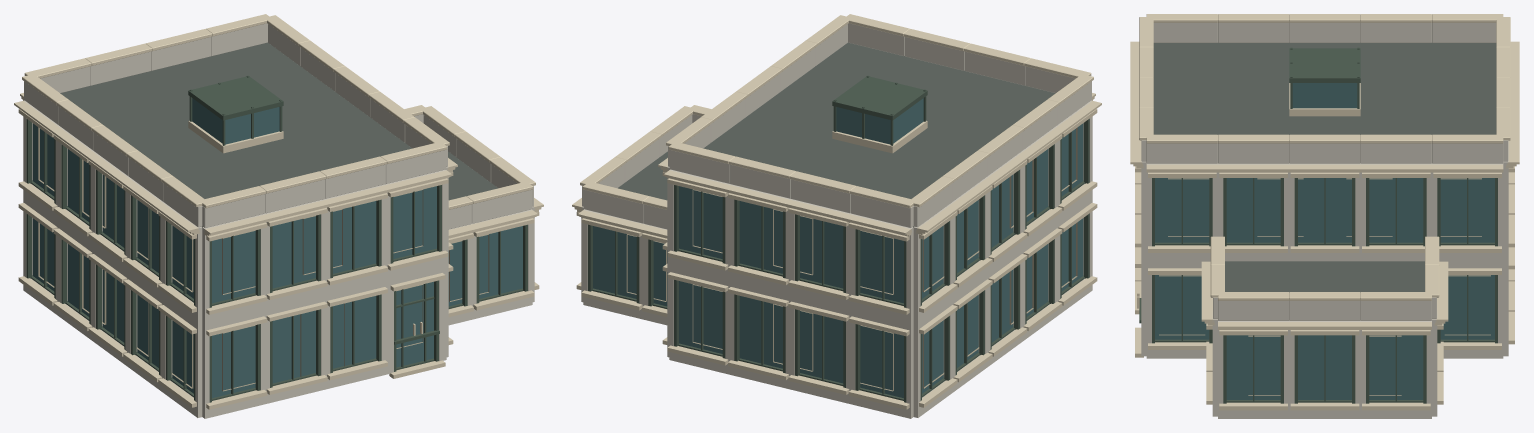
The model's file is modern-house.glb.
3 renders of one model, left to right at view 1: azimuth 30°, elevation 25°; view 2: azimuth 150°, elevation 25°; view 3: azimuth 270°, elevation 25°, orthographic. The views are drawn at different scales.
Parts seen in each view (by area): view 1: Roof main.005, collection/roof/frame, main/north/0/3750/glass.003, main/north/0/6250/glass.002, main/north/1/3750/glass.002, wing/north/0/7500/glass.002, main/north/1/8750/glass.002, main/north/1/6250/glass.002, main/north/1/1250/glass.002, main/north/0/1250/glass.003, Foundation.023, main/north/0/8750/glass.003 (+119 smaller); view 2: Roof main.005, collection/roof/frame, Foundation.023, main/south/0/3750/glass.003, main/south/1/3750/glass.002, wing/south/0/7500/glass.002, main/south/0/8750/glass.003, main/south/1/8750/glass.002, main/south/1/6250/glass.002, main/south/0/6250/glass.003, main/south/1/1250/glass.002, main/south/0/1250/glass.003 (+119 smaller); view 3: Roof main.005, Roof wing.003, main/east/1/3000/glass.003, main/east/1/5000/glass.003, main/east/1/7000/glass.003, wing/east/0/1667/glass.003, wing/east/0/5000/glass.003, wing/east/0/8333/glass.003, main/east/1/1000/glass.003, main/east/1/9000/glass.003, main/east/0/1000/glass.003, main/east/0/9000/glass.003 (+92 smaller).
Part boxes in pixels (<box>): Roof main.005: <box>60,42,412,227</box>; collection/roof/frame: <box>188,75,283,145</box>; main/north/0/3750/glass.003: <box>272,310,315,383</box>; main/north/0/6250/glass.002: <box>333,296,376,368</box>; main/north/1/3750/glass.002: <box>272,216,315,288</box>; wing/north/0/7500/glass.002: <box>479,226,522,298</box>; main/north/1/8750/glass.002: <box>393,186,436,258</box>; main/north/1/6250/glass.002: <box>333,201,376,273</box>; main/north/1/1250/glass.002: <box>212,231,255,303</box>; main/north/0/1250/glass.003: <box>212,325,255,398</box>; Foundation.023: <box>38,127,489,391</box>; main/north/0/8750/glass.003: <box>396,281,433,367</box>; Roof main.005: <box>703,42,1055,227</box>; collection/roof/frame: <box>832,75,927,145</box>; Foundation.023: <box>626,127,1077,391</box>; main/south/0/3750/glass.003: <box>800,311,843,383</box>; main/south/1/3750/glass.002: <box>800,216,843,288</box>; wing/south/0/7500/glass.002: <box>593,226,636,298</box>; main/south/0/8750/glass.003: <box>679,281,722,353</box>; main/south/1/8750/glass.002: <box>679,186,722,258</box>; main/south/1/6250/glass.002: <box>739,201,782,273</box>; main/south/0/6250/glass.003: <box>739,296,782,368</box>; main/south/1/1250/glass.002: <box>860,231,903,303</box>; main/south/0/1250/glass.003: <box>860,325,903,398</box>; Roof main.005: <box>1153,42,1496,134</box>; Roof wing.003: <box>1225,261,1424,292</box>; main/east/1/3000/glass.003: <box>1369,178,1423,242</box>; main/east/1/5000/glass.003: <box>1298,178,1351,242</box>; main/east/1/7000/glass.003: <box>1226,178,1280,242</box>; wing/east/0/1667/glass.003: <box>1369,335,1423,399</box>; wing/east/0/5000/glass.003: <box>1298,335,1351,399</box>; wing/east/0/8333/glass.003: <box>1226,335,1280,399</box>; main/east/1/1000/glass.003: <box>1440,178,1494,242</box>; main/east/1/9000/glass.003: <box>1155,178,1209,242</box>; main/east/0/1000/glass.003: <box>1440,275,1494,339</box>; main/east/0/9000/glass.003: <box>1155,275,1209,339</box>.
Bounding box in the file's own units: 12.92 × 7.33 × 10.92.
